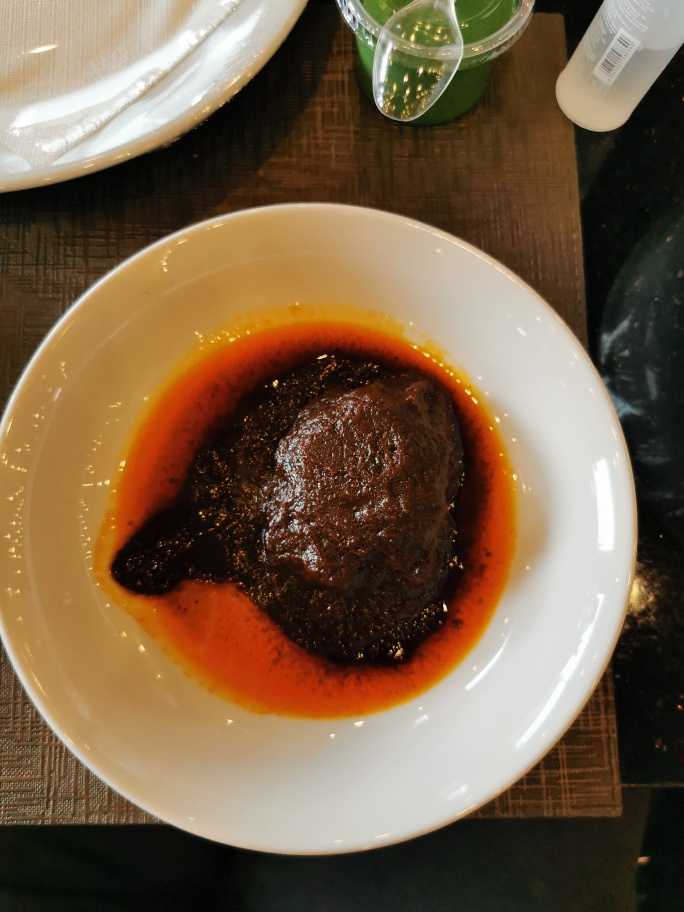rendang: (192, 346, 464, 669)
